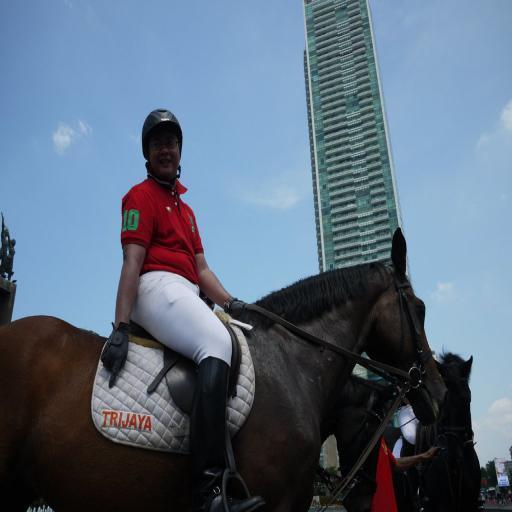horse: (0, 222, 451, 512), (342, 342, 484, 512), (322, 372, 396, 512)
